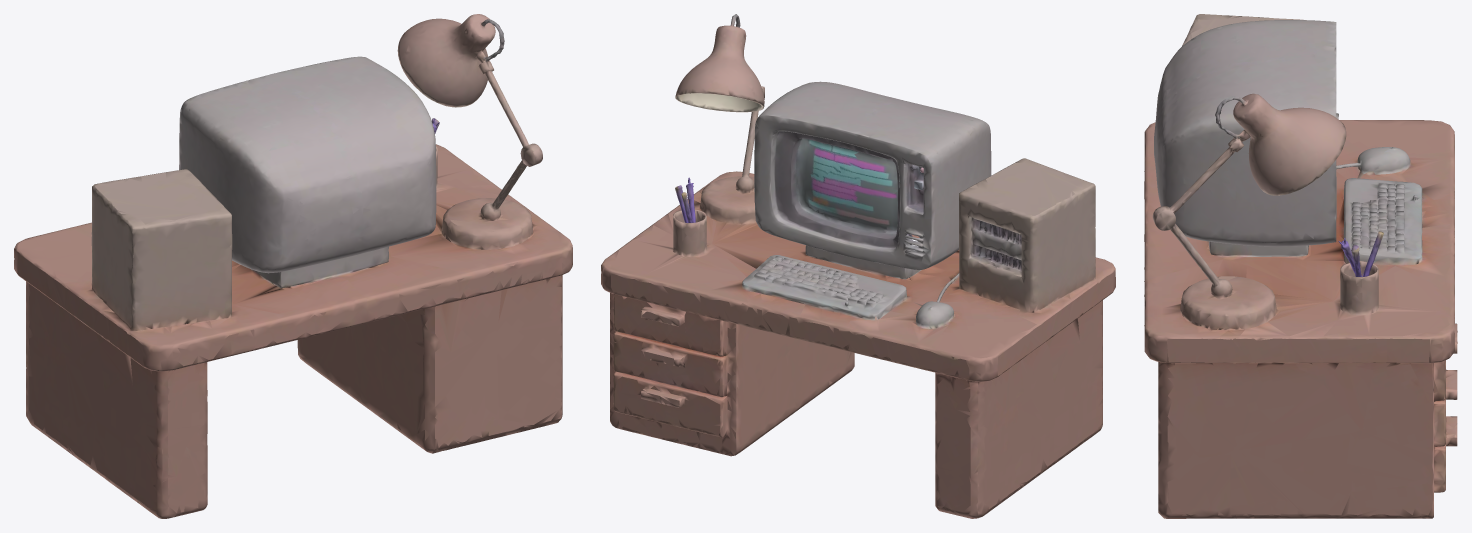
Rendered from desk_opt.glb.
3 renders of one model, left to right at view 1: azimuth 30°, elevation 25°; view 2: azimuth 150°, elevation 25°; view 3: azimuth 270°, elevation 25°, orthographic. The views are drawn at different scales.
Visible parts, largest first — view 1: tripo_node_f55e693a-2f54-45de-8fd7-81ce9a4de621; view 2: tripo_node_f55e693a-2f54-45de-8fd7-81ce9a4de621; view 3: tripo_node_f55e693a-2f54-45de-8fd7-81ce9a4de621.
Boxes of the visible parts, x1=… form: tripo_node_f55e693a-2f54-45de-8fd7-81ce9a4de621: x1=14, y1=14, x2=572, y2=518; tripo_node_f55e693a-2f54-45de-8fd7-81ce9a4de621: x1=601, y1=14, x2=1115, y2=518; tripo_node_f55e693a-2f54-45de-8fd7-81ce9a4de621: x1=1144, y1=14, x2=1457, y2=518.
Bounding box in the file's own units: 1 × 0.8652 × 0.6055.
1 material, 1 textured.
